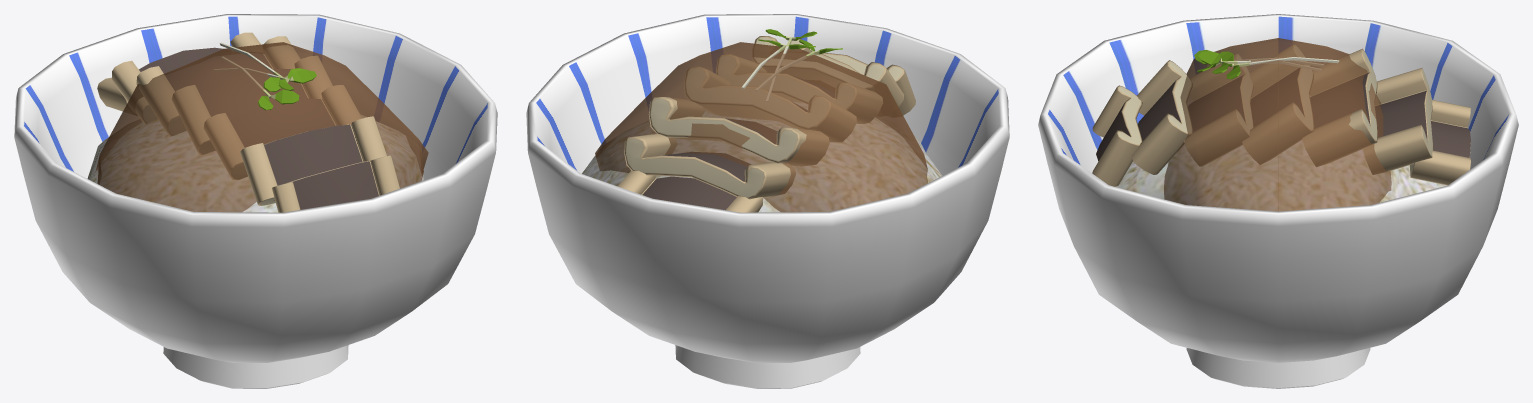
The model's file is item_Eel_Rice.fbx.
3 views of the same model, side by side, from view 1: azimuth 30°, elevation 25°; view 2: azimuth 150°, elevation 25°; view 3: azimuth 270°, elevation 25° (orthographic).
Visible parts, largest first — view 1: bowl, sauce1, rice1, pCube5, pCube4, pCube3, pCube6, pCube9, pCube7, pCube12, pCube8, pCube13 (+1 smaller); view 2: bowl, sauce1, rice1, pCube6, pCube7, pCube3, pCube4, pCube8, pCube5, pCube9, pCube12, pCube11; view 3: bowl, sauce1, rice1, pCube6, pCube3, pCube7, pCube4, pCube5, pCube9, pCube8, pCube11, pCube13.
Boxes of the visible parts, bbox=[...] form: bowl: bbox=[14, 14, 497, 388]; sauce1: bbox=[95, 42, 428, 212]; rice1: bbox=[87, 114, 423, 212]; pCube5: bbox=[240, 116, 387, 205]; pCube4: bbox=[204, 85, 361, 179]; pCube3: bbox=[172, 56, 332, 155]; pCube6: bbox=[136, 36, 299, 136]; pCube9: bbox=[272, 155, 400, 212]; pCube7: bbox=[112, 32, 260, 124]; pCube12: bbox=[221, 56, 299, 110]; pCube8: bbox=[97, 77, 127, 111]; pCube13: bbox=[213, 68, 316, 90]; bowl: bbox=[526, 14, 1009, 388]; sauce1: bbox=[595, 42, 927, 212]; rice1: bbox=[582, 102, 942, 212]; pCube6: bbox=[648, 97, 829, 166]; pCube7: bbox=[624, 134, 795, 199]; pCube3: bbox=[684, 66, 856, 141]; pCube4: bbox=[716, 54, 882, 123]; pCube8: bbox=[617, 170, 763, 212]; pCube5: bbox=[752, 36, 903, 107]; pCube9: bbox=[790, 39, 915, 115]; pCube12: bbox=[755, 39, 842, 91]; pCube11: bbox=[741, 39, 815, 88]; bowl: bbox=[1038, 14, 1518, 388]; sauce1: bbox=[1164, 38, 1391, 211]; rice1: bbox=[1109, 96, 1447, 211]; pCube6: bbox=[1302, 48, 1377, 166]; pCube3: bbox=[1242, 44, 1313, 164]; pCube7: bbox=[1363, 68, 1432, 174]; pCube4: bbox=[1184, 53, 1253, 166]; pCube5: bbox=[1131, 60, 1192, 174]; pCube9: bbox=[1092, 85, 1142, 186]; pCube8: bbox=[1410, 100, 1470, 185]; pCube11: bbox=[1219, 51, 1339, 79]; pCube13: bbox=[1198, 51, 1321, 73].
Bounding box in the file's own units: 74.2 × 50.47 × 74.2.
